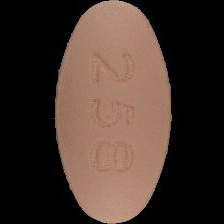49999-103: (0, 0, 224, 224)
